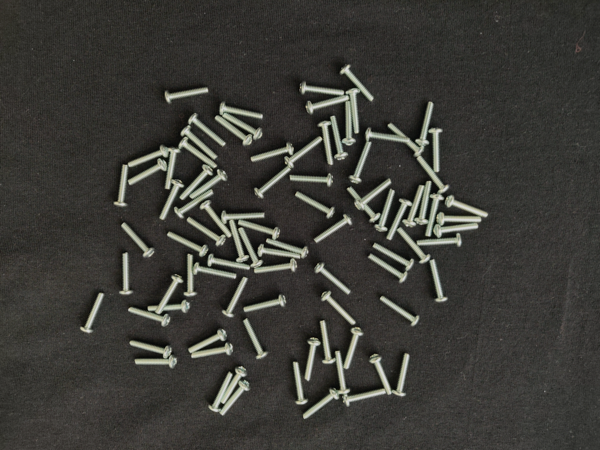longscrew: (384, 117, 423, 158), (415, 153, 450, 195), (342, 64, 377, 104), (173, 188, 218, 218), (284, 134, 320, 170), (153, 276, 187, 314), (316, 263, 355, 296), (122, 220, 155, 259), (292, 193, 334, 223), (178, 165, 214, 200), (212, 117, 254, 146), (186, 115, 228, 144), (371, 253, 409, 285), (376, 239, 414, 271), (321, 293, 359, 325), (185, 172, 230, 199), (352, 180, 394, 208), (242, 316, 270, 358), (314, 215, 350, 247), (201, 202, 232, 239), (376, 189, 402, 233), (223, 113, 265, 140), (302, 391, 337, 423), (185, 218, 225, 246), (222, 277, 250, 317), (180, 141, 219, 169), (383, 296, 417, 328), (346, 190, 381, 221), (183, 130, 221, 158), (159, 184, 187, 222), (255, 166, 287, 199), (388, 201, 415, 240), (208, 374, 235, 412), (307, 95, 351, 118), (190, 326, 226, 354), (223, 381, 250, 418), (219, 369, 246, 406), (419, 229, 461, 252), (222, 205, 264, 228), (438, 207, 481, 229), (436, 221, 479, 243), (239, 220, 282, 242), (259, 241, 302, 263), (244, 293, 287, 315), (207, 253, 250, 275), (195, 263, 238, 285), (80, 293, 103, 334), (448, 195, 490, 217), (266, 235, 308, 257), (254, 257, 296, 279), (342, 388, 386, 409), (167, 233, 208, 255), (344, 327, 362, 376), (373, 353, 391, 402), (115, 251, 133, 300), (112, 160, 130, 209), (428, 125, 446, 174), (417, 182, 435, 231), (124, 309, 173, 327), (144, 301, 193, 319), (162, 84, 211, 102), (217, 103, 266, 121), (405, 182, 423, 230), (424, 193, 442, 241), (162, 149, 183, 189), (247, 145, 294, 162), (190, 342, 232, 361), (353, 140, 371, 184), (432, 259, 448, 307), (395, 351, 411, 399), (289, 361, 305, 409), (132, 147, 170, 167), (130, 162, 168, 182), (305, 338, 321, 385), (182, 251, 197, 300), (334, 348, 349, 396), (320, 318, 335, 365), (348, 89, 364, 133), (341, 100, 357, 144), (332, 118, 348, 162), (286, 171, 335, 185), (320, 122, 335, 166), (417, 101, 432, 145), (128, 342, 175, 355), (131, 358, 178, 371), (368, 130, 407, 143), (297, 85, 345, 94)
